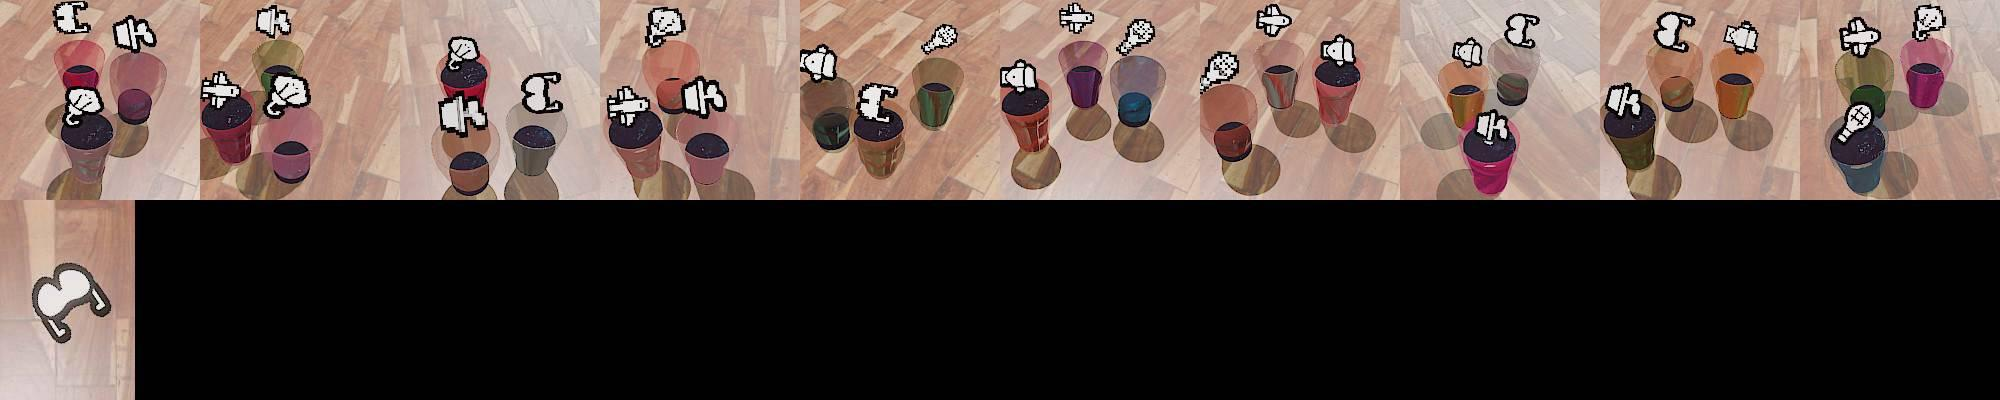icon: (32, 259, 116, 341), (436, 92, 489, 138), (264, 71, 312, 117), (679, 75, 728, 117), (605, 84, 652, 127), (520, 70, 565, 115), (855, 82, 901, 124), (1653, 11, 1696, 54), (112, 14, 158, 54), (644, 6, 686, 48), (1839, 17, 1881, 57), (1199, 50, 1239, 92), (798, 43, 841, 83), (1603, 82, 1647, 120), (64, 87, 105, 126), (200, 71, 242, 110), (1115, 18, 1156, 56), (1838, 102, 1875, 141), (1000, 59, 1040, 94), (1912, 4, 1948, 43), (1504, 11, 1541, 48), (1722, 19, 1760, 55), (52, 1, 92, 36), (255, 4, 293, 38), (1255, 3, 1293, 37), (1059, 1, 1096, 36), (920, 23, 958, 56), (1476, 110, 1510, 144), (1320, 33, 1356, 66), (1452, 37, 1485, 69), (446, 36, 481, 66)
